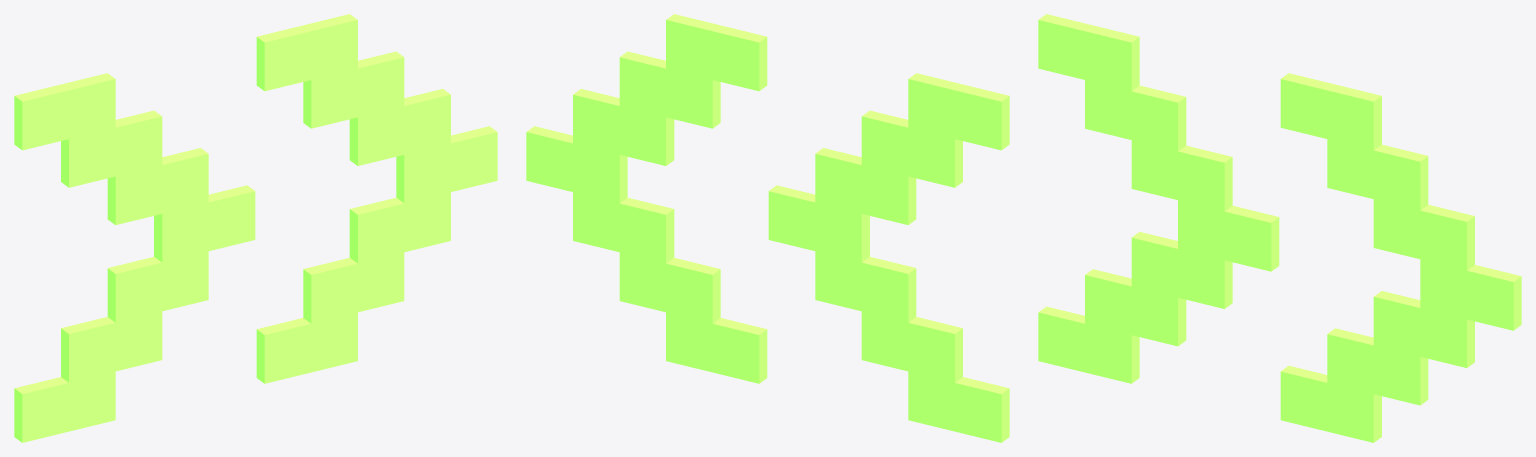
Rendered from Exit_Chevron.gltf.
The picture shows the model from 3 angles, left to right: view 1: azimuth 30°, elevation 25°; view 2: azimuth 150°, elevation 25°; view 3: azimuth 330°, elevation 25°; orthographic projection.
Parts seen in each view (by area): view 1: Exit_Chevron_baked; view 2: Exit_Chevron_baked; view 3: Exit_Chevron_baked.
Part boxes in pixels (x1=…): Exit_Chevron_baked: x1=14, y1=14, x2=497, y2=442; Exit_Chevron_baked: x1=526, y1=14, x2=1009, y2=442; Exit_Chevron_baked: x1=1038, y1=14, x2=1521, y2=442.
Size of the model in its own units: 1.02 by 0.7 by 0.03.
